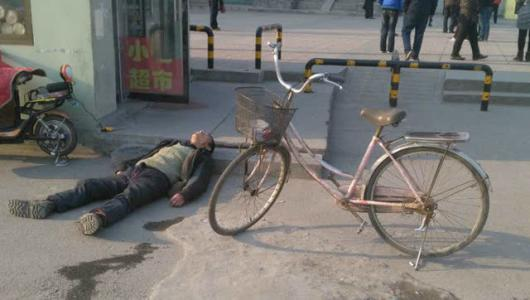fall: (0, 122, 219, 237)
